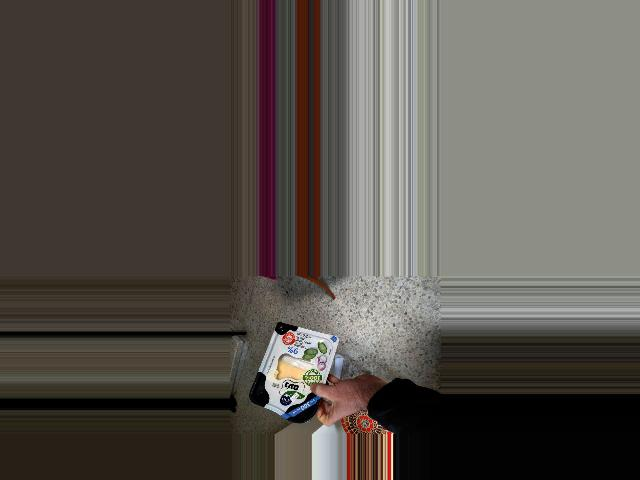cheese: (262, 323, 330, 419)
